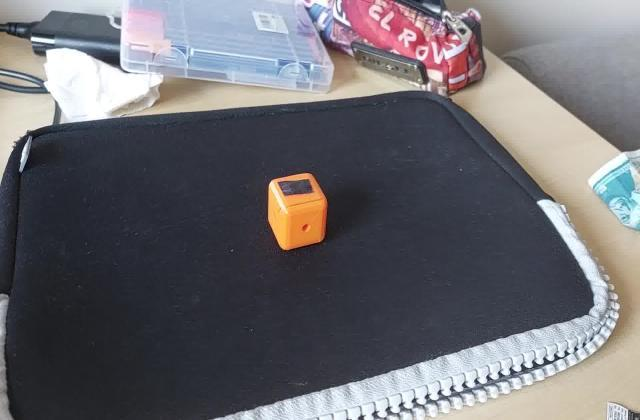black: (274, 178, 314, 200)
cube: (262, 171, 328, 253)
